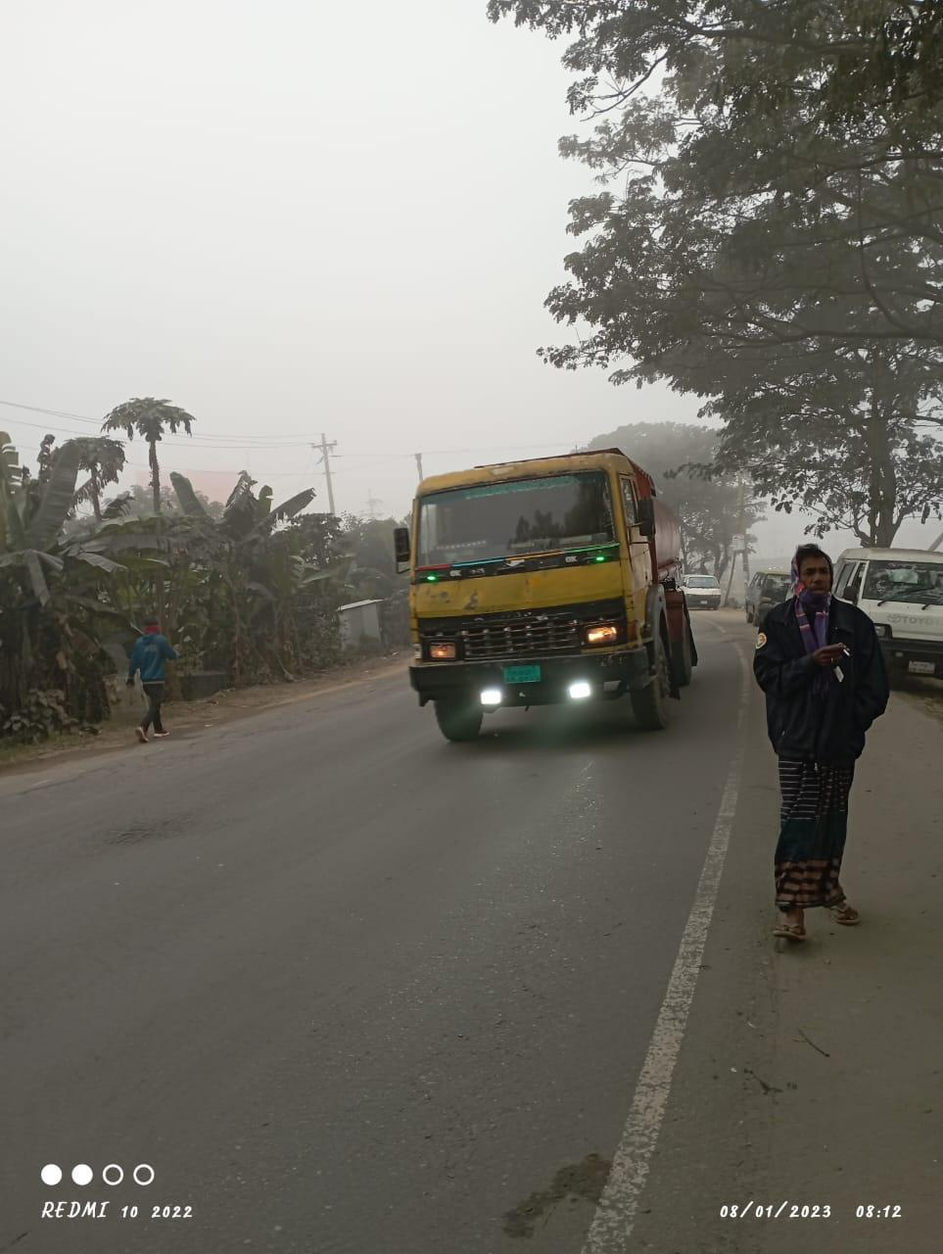Car: (835, 538, 943, 687), (684, 567, 729, 611)
Truck: (386, 436, 702, 745)
